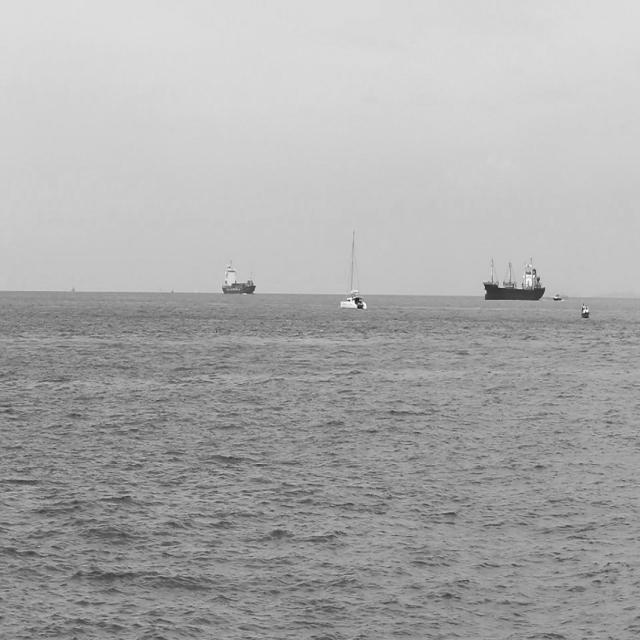boat: (339, 228, 368, 310)
ship: (483, 257, 546, 301), (221, 258, 256, 295), (580, 302, 590, 320), (553, 293, 563, 302)
